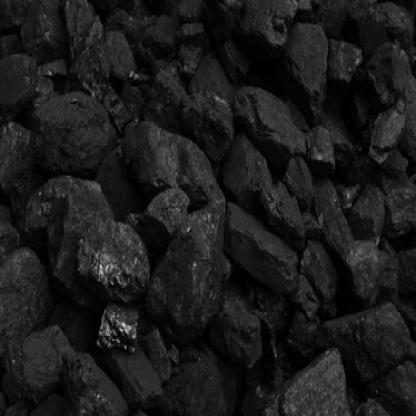Sedimentary_coal: (18, 154, 166, 305), (258, 338, 353, 414), (276, 17, 330, 92)
